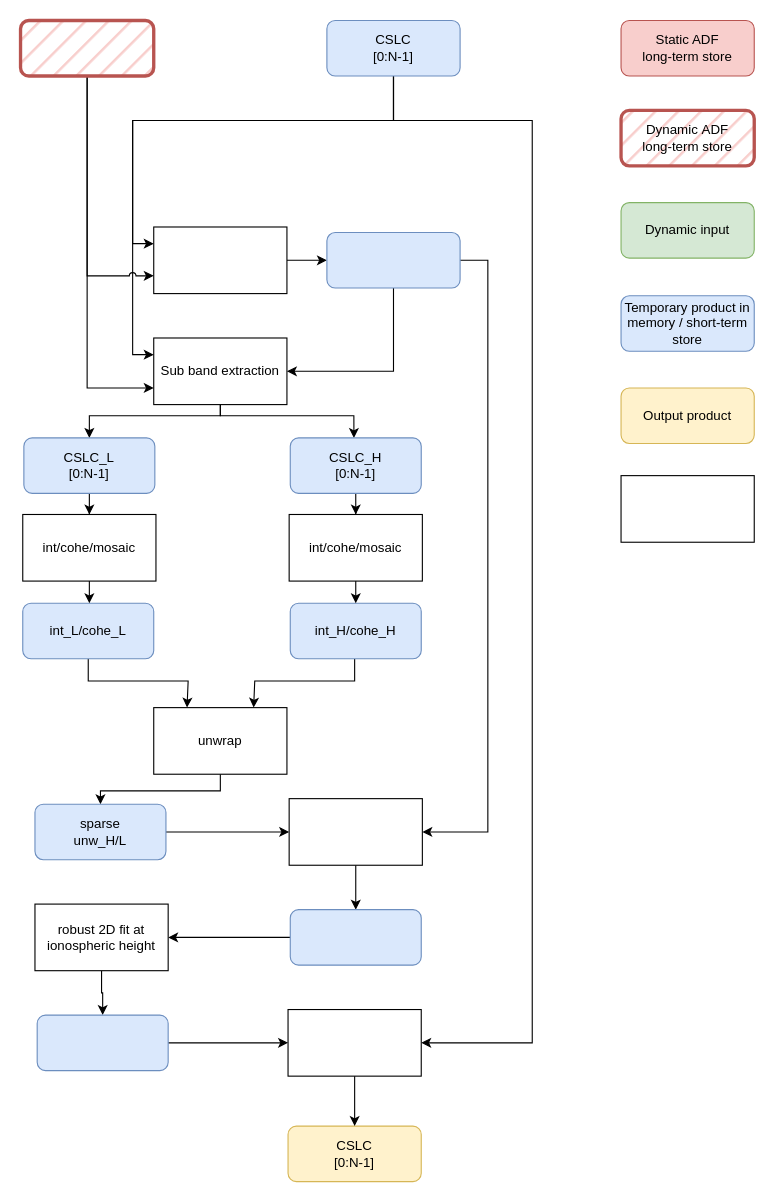
This 775x1201 diagram has some shape labels left out. The centre of each missing label's shape, as x and y in pixels:
band combination: (355,831)
ESD: (220,260)
ESD_poly: (393,259)
Flattening: (354,1042)
iono_poly: (102,1042)
Processing block: (687,508)
Reference CSLC [0:N-1]: (86,47)
sparse phase_iono: (355,937)
